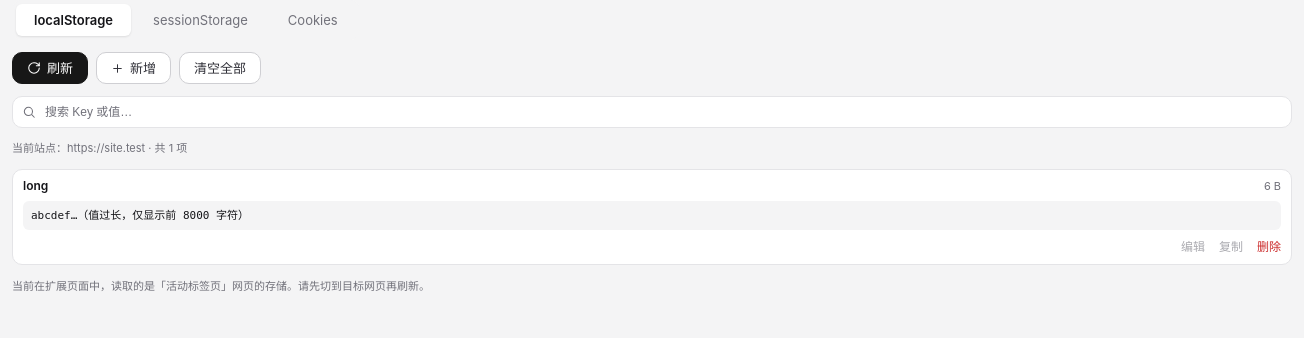
it: StorageTool 存储浏览 › 值超长时展示截断预览，并禁用编辑与复制
The width and height of the screenshot is (1304, 338).
Expected: the text with class "tw-store__value" reads "abcdef…（值过长，仅显示前 8000 字符）", [31, 208, 249, 222]
Expected: the button "编辑" is disabled, [1181, 238, 1205, 256]
Double-click the text with class "tw-store__value" at (652, 215), box [23, 200, 1281, 230]
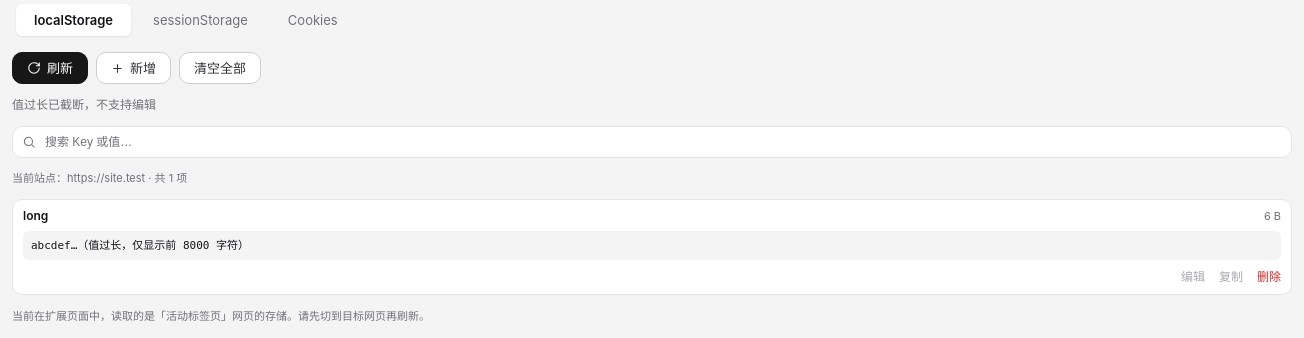
Now the message with class "tw-status" reads "值过长已截断，不支持编辑", box [12, 97, 156, 112]
